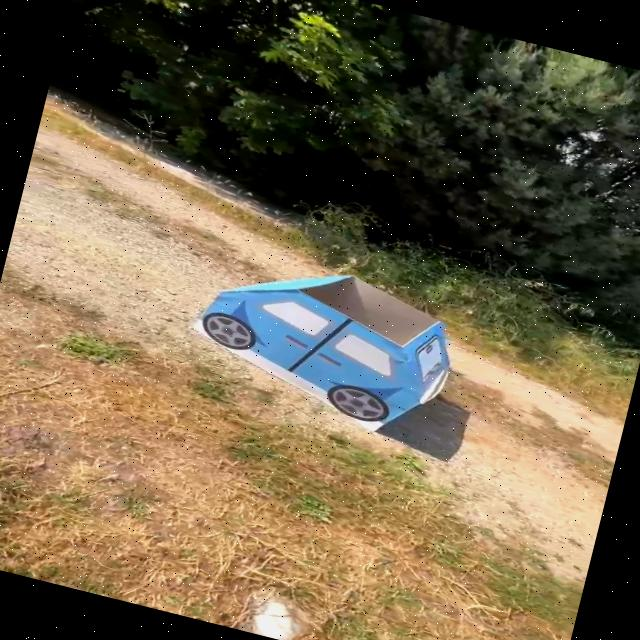blue_car: (171, 237, 484, 452)
